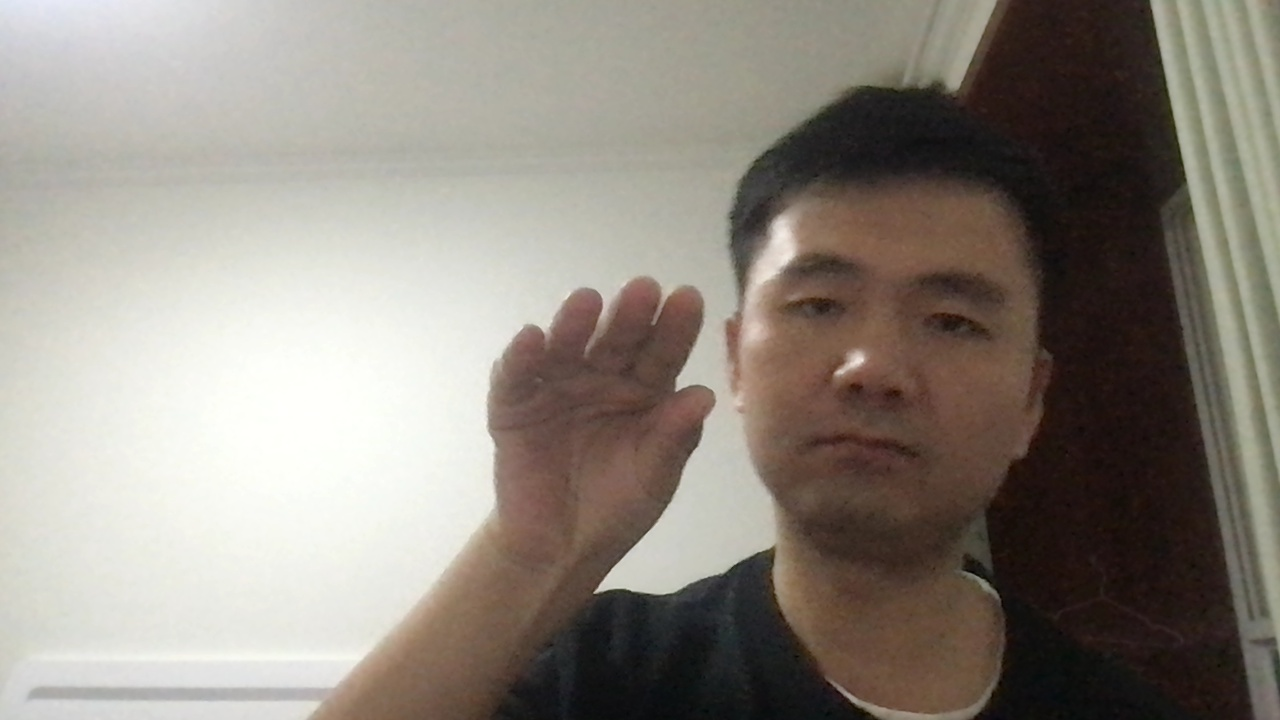no: (475, 275, 733, 547)
